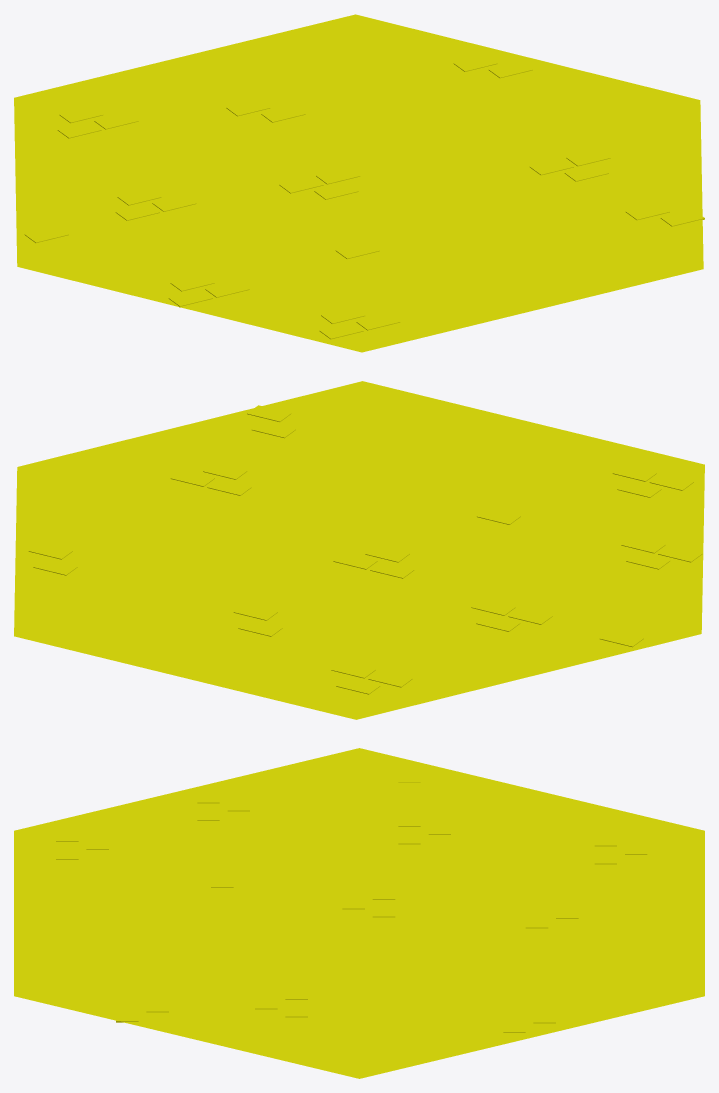
3 renders of one model, top to bottom at view 1: azimuth 30°, elevation 25°; view 2: azimuth 150°, elevation 25°; view 3: azimuth 270°, elevation 25°, orthographic.
Parts seen in each view (by area): view 1: san; view 2: san; view 3: san.
Part boxes in pixels (left/top/right/bottom): san: left=14, top=14, right=704, bottom=352; san: left=14, top=381, right=704, bottom=719; san: left=14, top=748, right=704, bottom=1078.
Size of the model in its own units: 19.84 by 0.042 by 17.51.
1 material, 1 textured.
